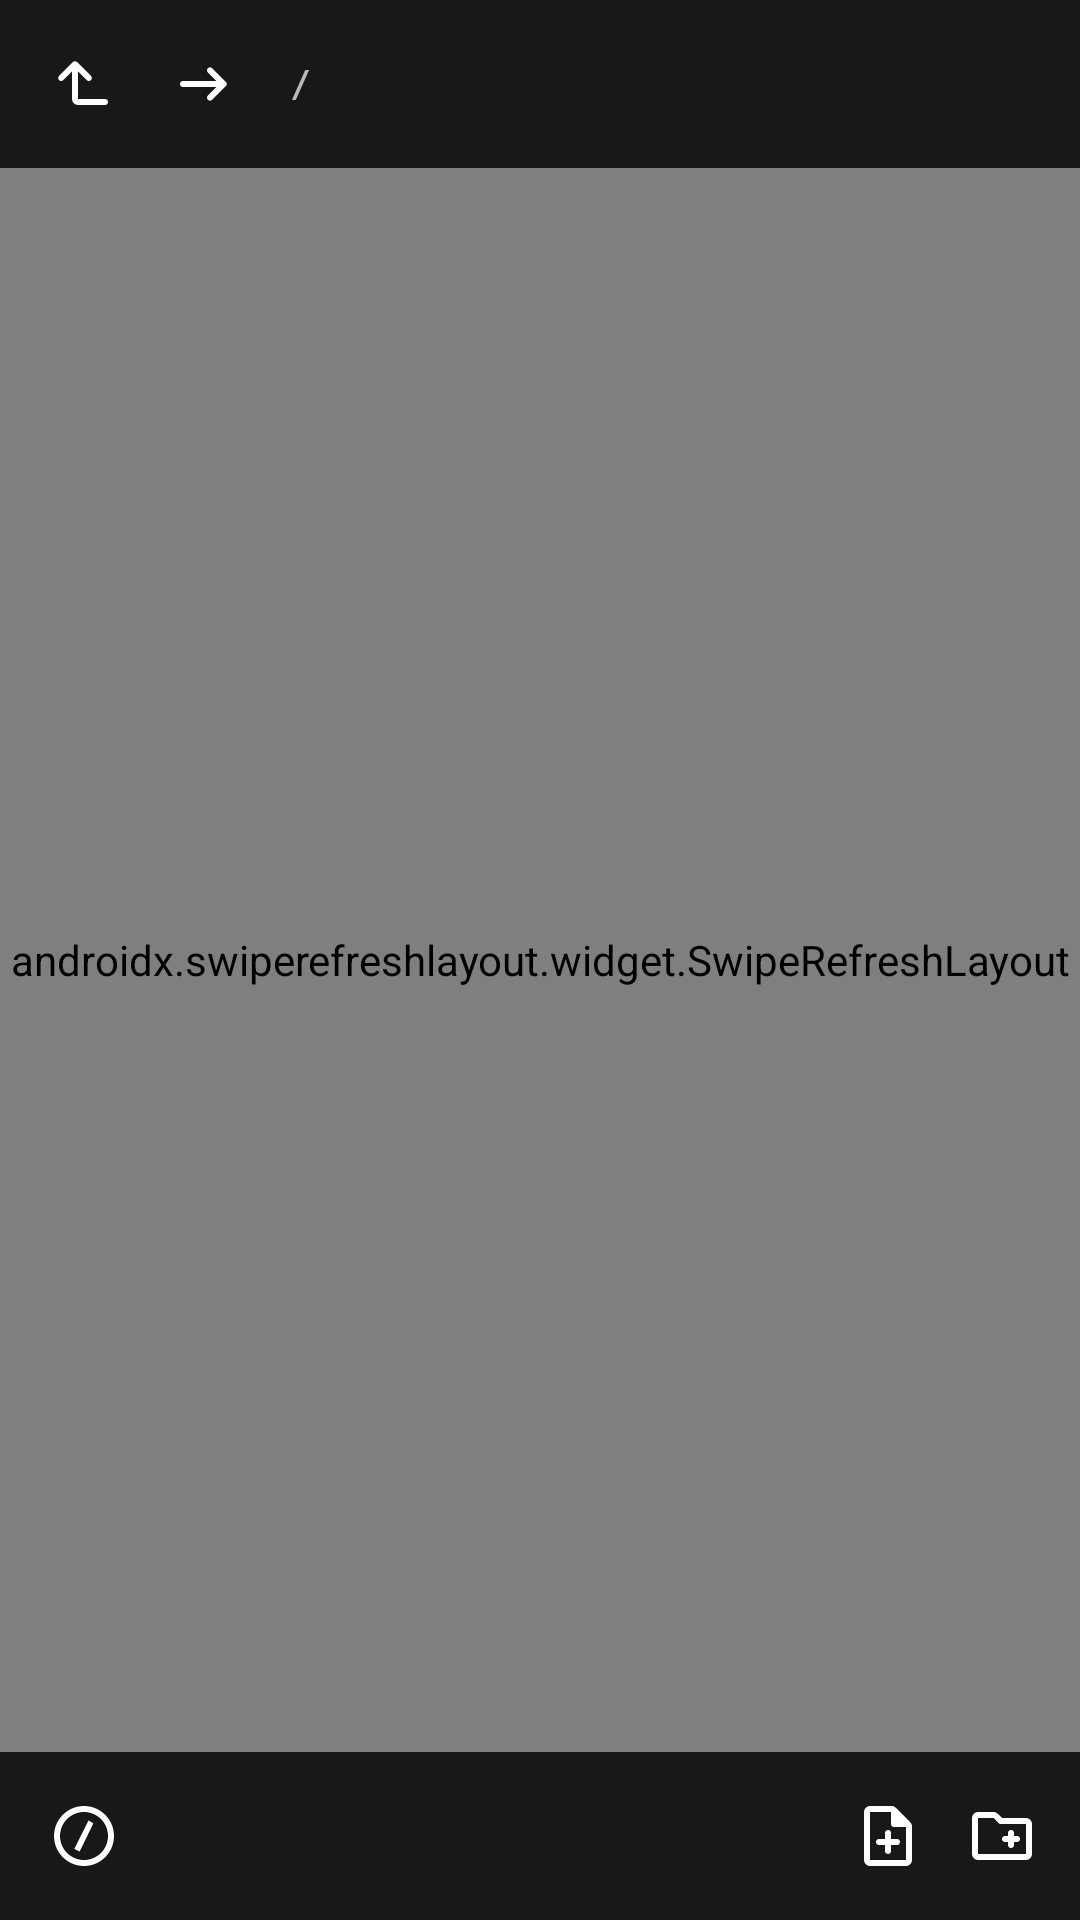

Point at icon controls on the screen. Image size 1080 × 1920, points as (x=x, y=y).
directory forward: (x=203, y=84)
directory up: (x=83, y=83)
file: (x=888, y=1836)
folder: (x=1002, y=1836)
root folder circle: (x=84, y=1836)
